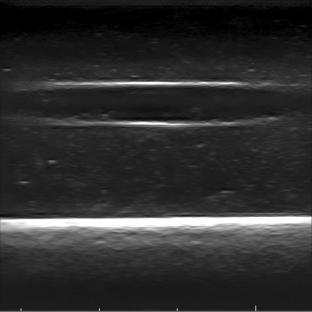vessel: (45, 79, 276, 129)
